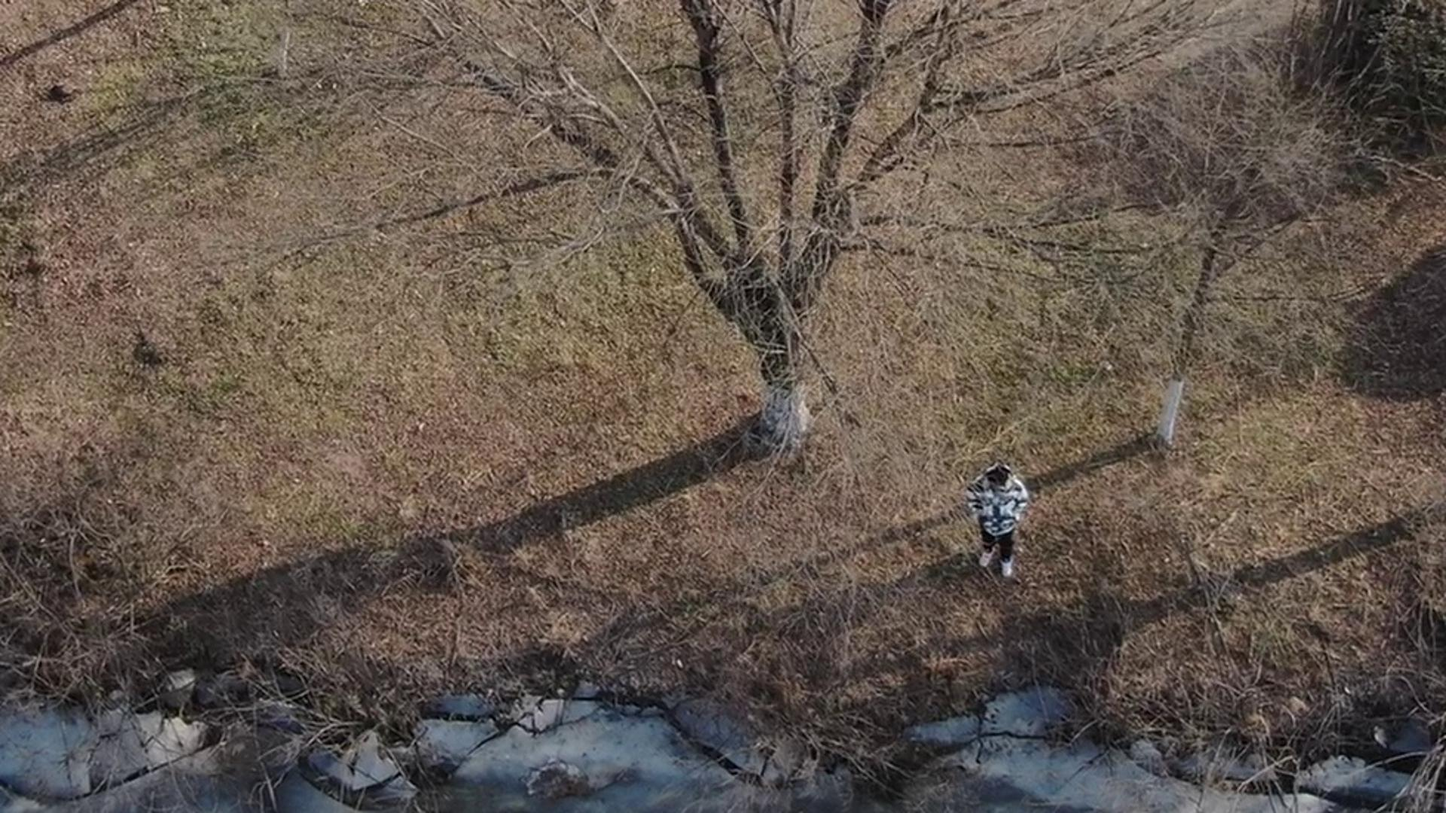human: (967, 489, 1016, 595)
